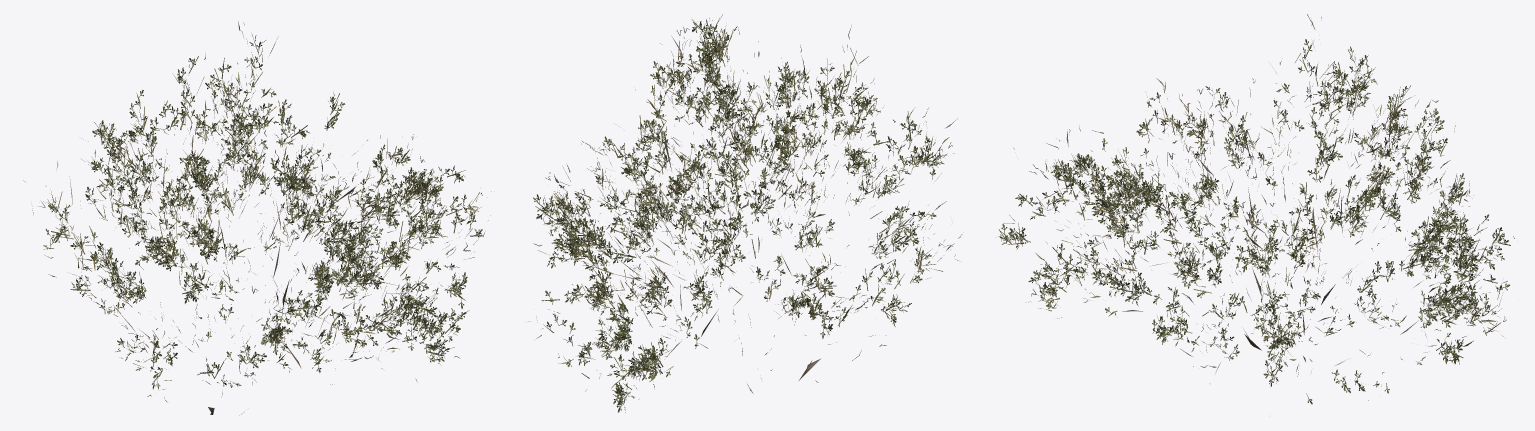
File: tree_searsia_burchellii_young.glb
3 renders of one model, left to right at view 1: azimuth 30°, elevation 25°; view 2: azimuth 150°, elevation 25°; view 3: azimuth 270°, elevation 25°, orthographic. The views are drawn at different scales.
Visible parts, largest first — view 1: tree_searsia_burchellii_young; view 2: tree_searsia_burchellii_young; view 3: tree_searsia_burchellii_young.
Part boxes in pixels (bbox=[...]): tree_searsia_burchellii_young: bbox=[23, 21, 491, 415]; tree_searsia_burchellii_young: bbox=[528, 14, 962, 412]; tree_searsia_burchellii_young: bbox=[999, 14, 1514, 404].
Size of what is drawn, in the model's own units: 7.15 by 7 by 8.84.
3 materials, 3 textured.
